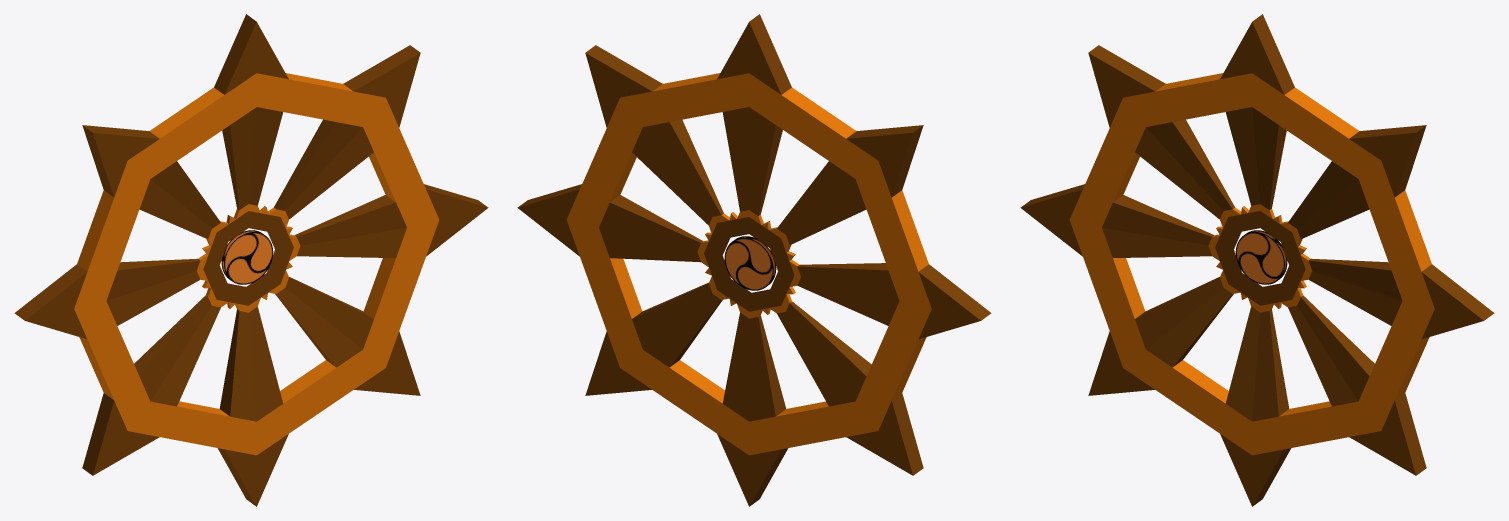
File: BuddhaWheel_early_v05.fbx
The picture shows the model from 3 angles, left to right: view 1: azimuth 30°, elevation 25°; view 2: azimuth 150°, elevation 25°; view 3: azimuth 330°, elevation 25°; orthographic projection.
Visible parts, largest first — view 1: BuddhaWheel; view 2: BuddhaWheel; view 3: BuddhaWheel.
Boxes of the visible parts, x1,y1,x2,y2 form: BuddhaWheel: [14, 14, 488, 506]; BuddhaWheel: [517, 14, 991, 506]; BuddhaWheel: [1020, 14, 1494, 506].
Bounding box in the file's own units: 453 × 453 × 17.83.
